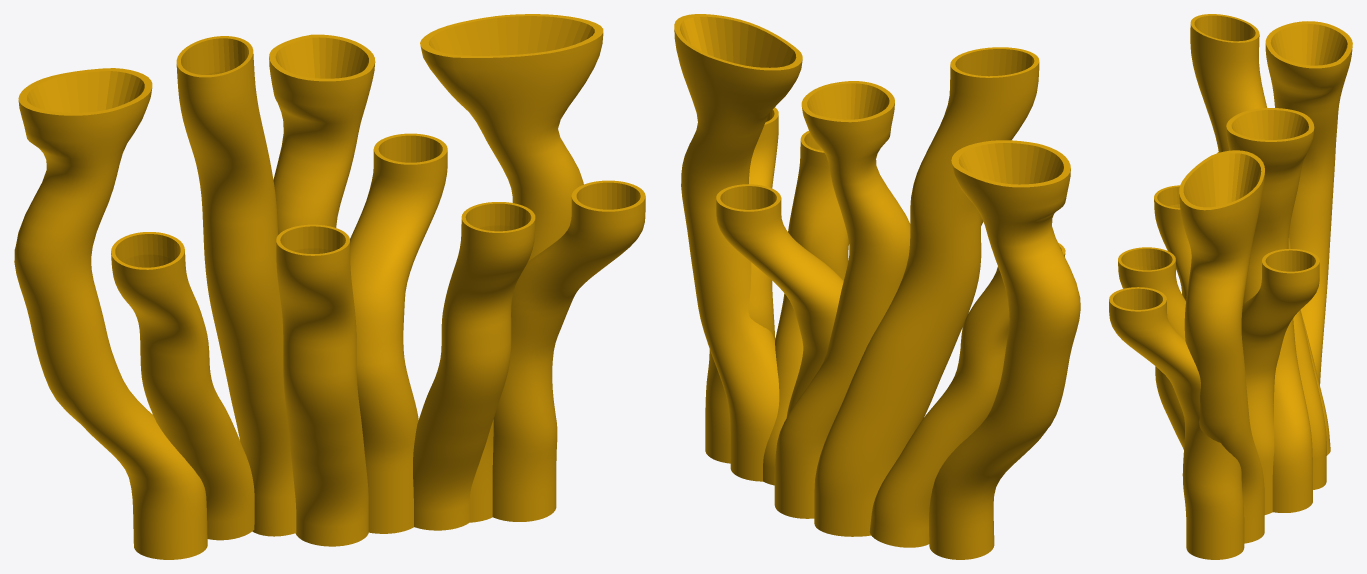
The model's file is serFBX.fbx.
3 views of the same model, side by side, from view 1: azimuth 30°, elevation 25°; view 2: azimuth 150°, elevation 25°; view 3: azimuth 270°, elevation 25° (orthographic). The views are drawn at different scales.
Parts seen in each view (by area): view 1: pCylinder17, pCylinder16, pCylinder8, pCylinder15, pCylinder13, pCylinder6, pCylinder7, pCylinder18, pCylinder12; view 2: pCylinder16, pCylinder17, pCylinder8, pCylinder12, pCylinder18, pCylinder13, pCylinder6, pCylinder7; view 3: pCylinder8, pCylinder12, pCylinder17, pCylinder7, pCylinder16, pCylinder13, pCylinder6, pCylinder15, pCylinder18.
Boxes of the visible parts, left/top/right/bottom form: pCylinder17: left=14, top=68, right=207, bottom=559; pCylinder16: left=176, top=36, right=296, bottom=536; pCylinder8: left=420, top=14, right=603, bottom=522; pCylinder15: left=276, top=224, right=368, bottom=546; pCylinder13: left=350, top=133, right=447, bottom=533; pCylinder6: left=413, top=202, right=535, bottom=530; pCylinder7: left=492, top=180, right=645, bottom=521; pCylinder18: left=111, top=232, right=254, bottom=540; pCylinder12: left=269, top=34, right=375, bottom=234; pCylinder16: left=814, top=47, right=1039, bottom=536; pCylinder17: left=929, top=140, right=1080, bottom=559; pCylinder8: left=674, top=14, right=802, bottom=481; pCylinder12: left=774, top=81, right=910, bottom=518; pCylinder18: left=869, top=242, right=1065, bottom=547; pCylinder13: left=716, top=184, right=843, bottom=417; pCylinder6: left=763, top=130, right=848, bottom=485; pCylinder7: left=705, top=107, right=778, bottom=463; pCylinder8: left=1179, top=150, right=1264, bottom=543; pCylinder12: left=1226, top=108, right=1314, bottom=512; pCylinder17: left=1265, top=21, right=1352, bottom=384; pCylinder7: left=1109, top=287, right=1244, bottom=559; pCylinder16: left=1190, top=14, right=1326, bottom=489; pCylinder13: left=1241, top=249, right=1319, bottom=514; pCylinder6: left=1118, top=247, right=1185, bottom=449; pCylinder15: left=1154, top=185, right=1191, bottom=300; pCylinder18: left=1217, top=152, right=1330, bottom=455.
Size of the model in its own units: 26.19 by 25.18 by 13.65.
